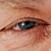eye: (19, 22, 34, 29)
